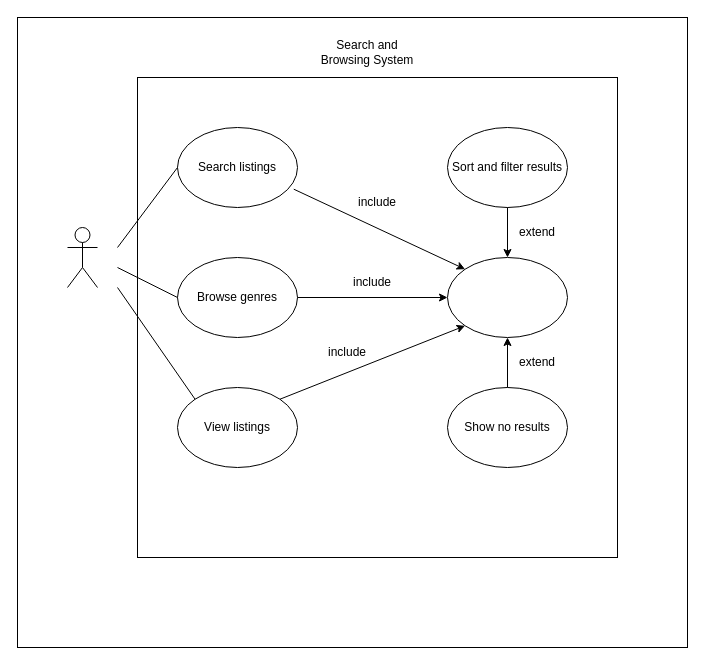
Image size: 705x665. Some labels were removed from this diagram. The centre of each missing label's shape, as x and y in pixels:
"Buyer" belongs at (82,257).
"Display results" belongs at (507,297).
